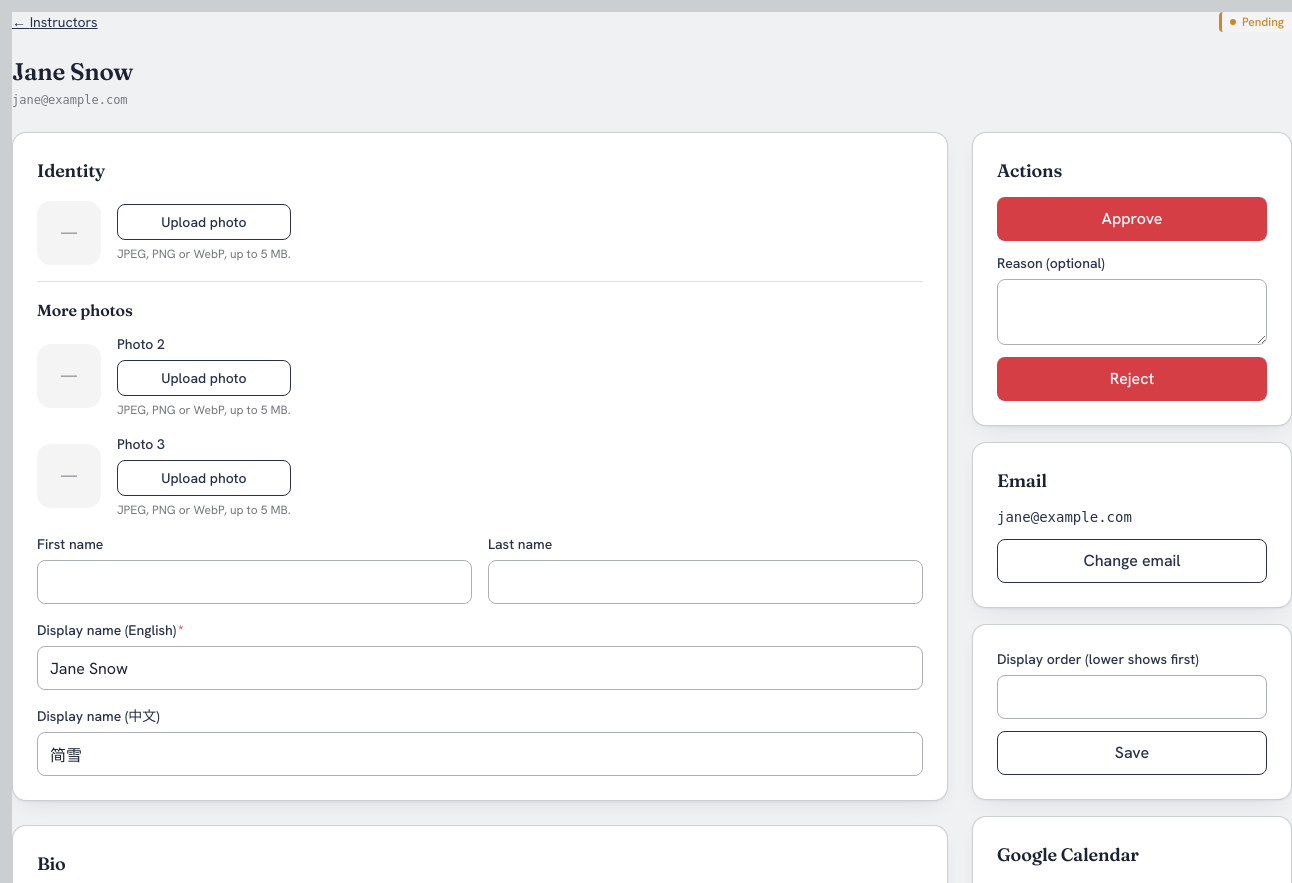
it: AdminDetailPage actions › shows an error when the approval request fails
Expected: the text "Something went wrong." is not shown
Step 1. Click the 1st button named "Approve" → (1132, 219), box [997,197,1267,241]
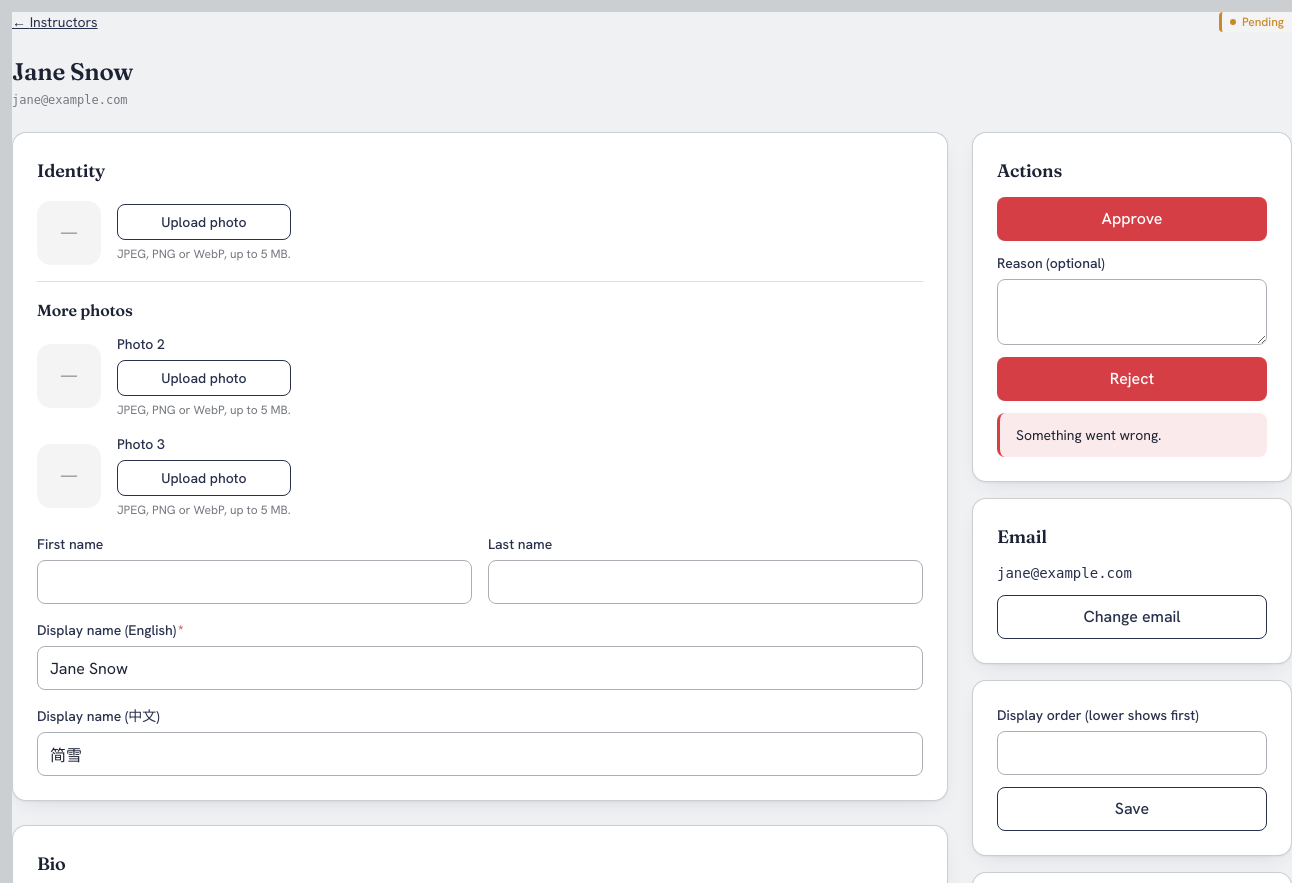
Expected: the text "Pending" is shown, [1242,14,1284,30]
Expected: the text "Something went wrong." is shown, [1016,426,1162,444]
